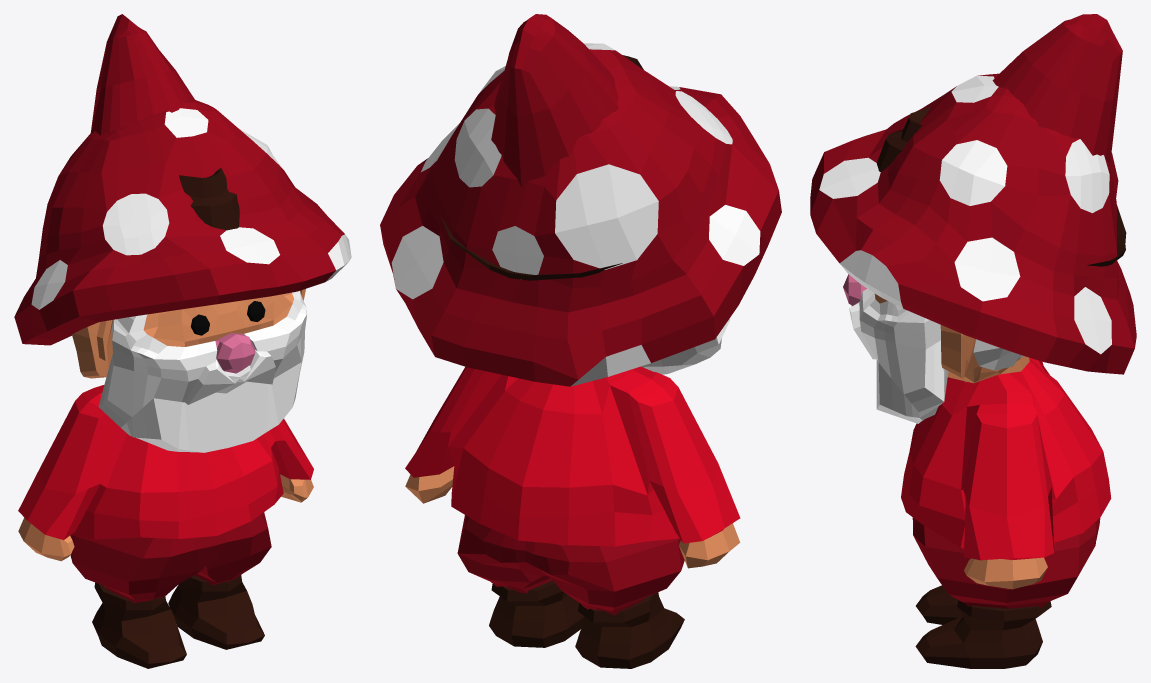
File: RedGnome.fbx
The picture shows the model from 3 angles, left to right: view 1: azimuth 30°, elevation 25°; view 2: azimuth 150°, elevation 25°; view 3: azimuth 270°, elevation 25°; orthographic projection. The views are drawn at different scales.
Visible parts, largest first — view 1: Red Gnome, Mushroom Hat Red, Gnome hat Red, Cowboy hat red; view 2: Mushroom Hat Red, Red Gnome, Gnome hat Red, Cowboy hat red; view 3: Mushroom Hat Red, Red Gnome, Gnome hat Red, Cowboy hat red.
Boxes of the visible parts, x1,y1,x2,y2 form: Red Gnome: (18, 289, 313, 668); Mushroom Hat Red: (14, 98, 351, 345); Gnome hat Red: (90, 14, 194, 135); Cowboy hat red: (179, 168, 239, 230); Mushroom Hat Red: (380, 43, 781, 386); Red Gnome: (405, 319, 740, 668); Gnome hat Red: (491, 14, 618, 187); Cowboy hat red: (440, 55, 643, 280); Mushroom Hat Red: (810, 73, 1136, 374); Red Gnome: (843, 274, 1111, 668); Gnome hat Red: (992, 14, 1122, 166); Cowboy hat red: (876, 107, 1126, 266).
Bounding box in the file's own units: 346 × 308 × 643.
